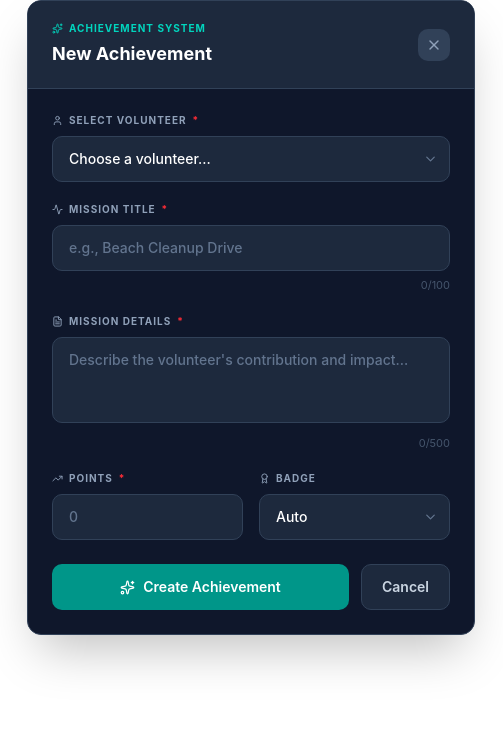
Test: AchievementForm Component Validation › shows validation errors when submitting an empty form
Step 1. Click the button "Create Achievement" → (200, 587), box x1=52 y1=564 x2=349 y2=610
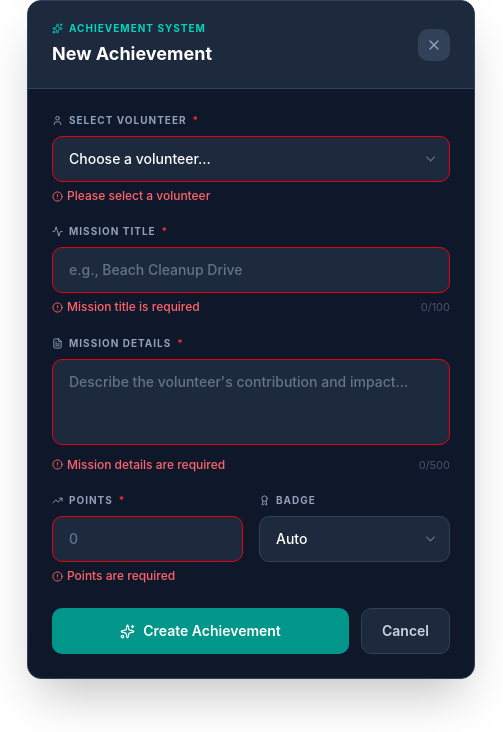
Check: the text "Please select a volunteer" is shown, box x1=52 y1=188 x2=210 y2=203
Check: the text "Mission title is required" is shown, box x1=52 y1=299 x2=200 y2=316
Check: the text "Mission details are required" is shown, box x1=52 y1=456 x2=225 y2=473
